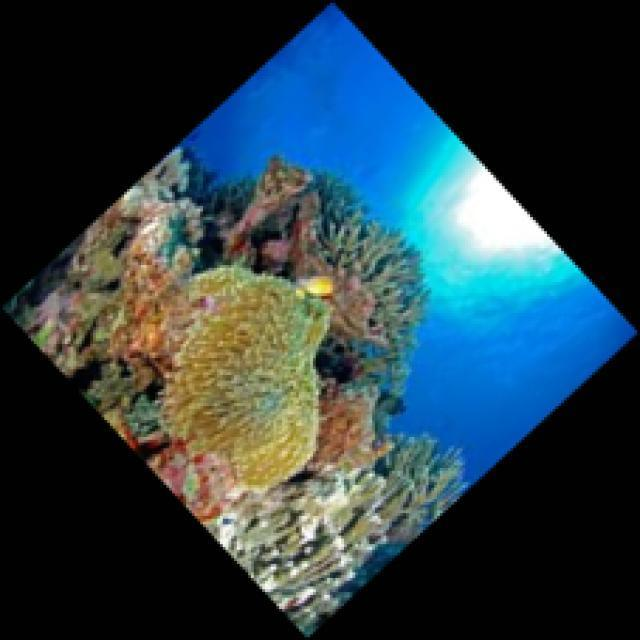Healthy: (164, 259, 333, 496), (115, 237, 191, 378), (149, 442, 234, 526)
